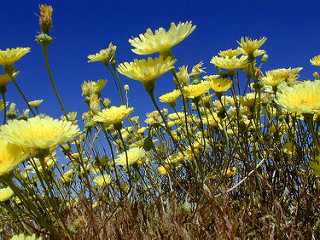dandelion: (1, 113, 84, 156), (124, 19, 204, 54), (113, 56, 183, 93), (272, 81, 320, 117), (91, 104, 141, 133)
